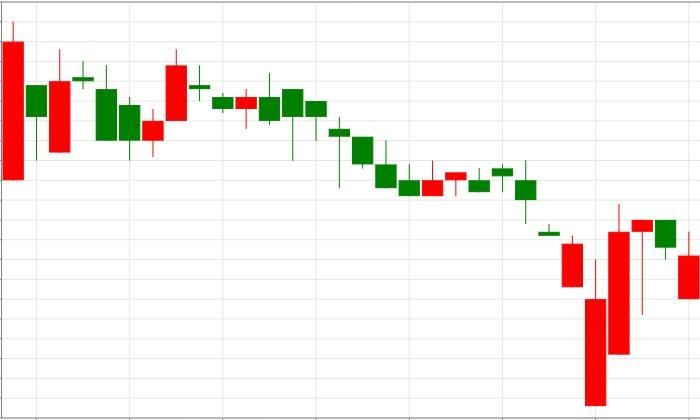bullish_engulfing_rise: (281, 89, 444, 197)
